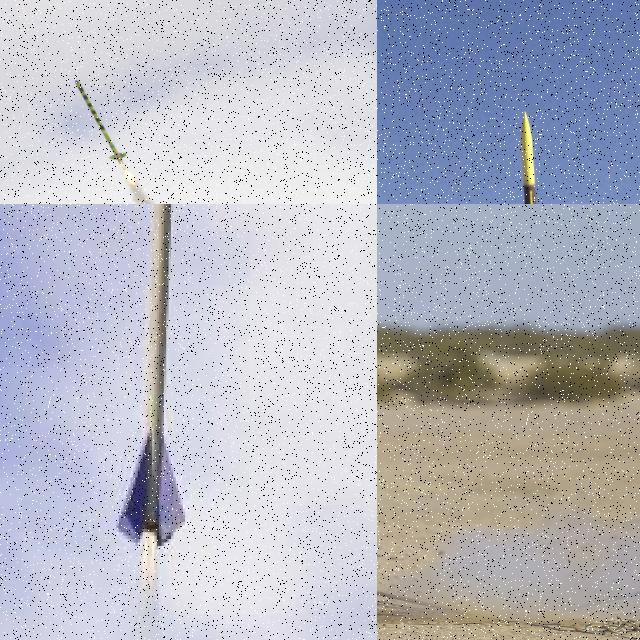Rocket: (112, 204, 187, 557), (73, 79, 127, 166), (516, 110, 553, 204)
